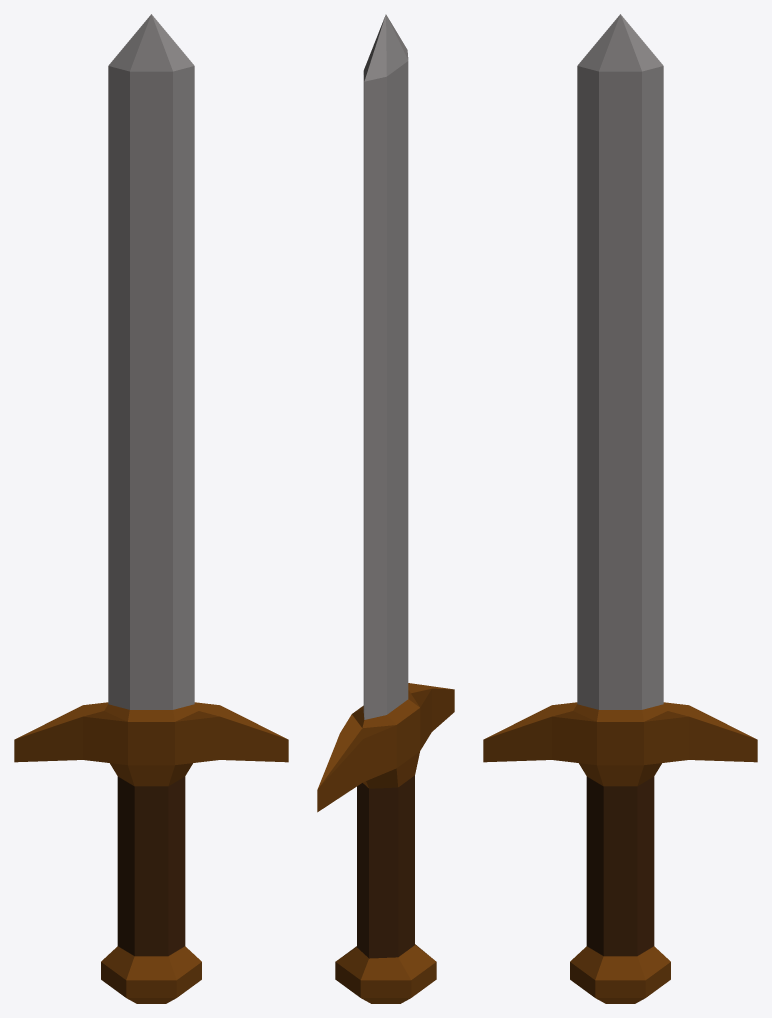
The model's file is sword1.glb.
3 views of the same model, side by side, from view 1: azimuth 90°, elevation 25°; view 2: azimuth 150°, elevation 25°; view 3: azimuth 270°, elevation 25° (orthographic).
Parts seen in each view (by area): view 1: Sword; view 2: Sword; view 3: Sword.
Boxes of the visible parts, <box> form: Sword: <box>14,14,288,1003</box>; Sword: <box>317,14,454,1003</box>; Sword: <box>483,14,757,1003</box>.
Size of the model in its own units: 0.532 by 6.56 by 1.67.
